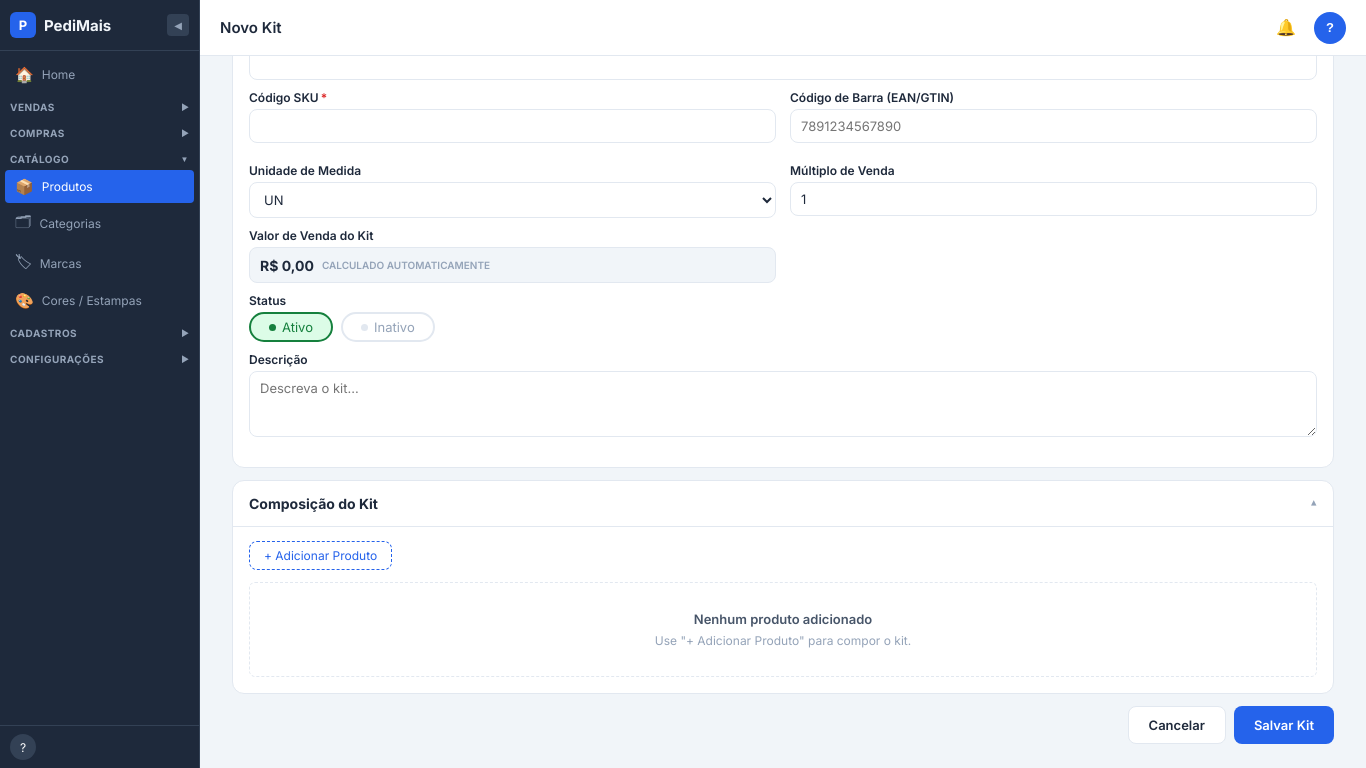
it: ProductKitFormView › removes an item and recalculates the total
(page scrolled)
Click the button with test id "adicionar-itens".
click(321, 556)  # box [249,541,392,570]
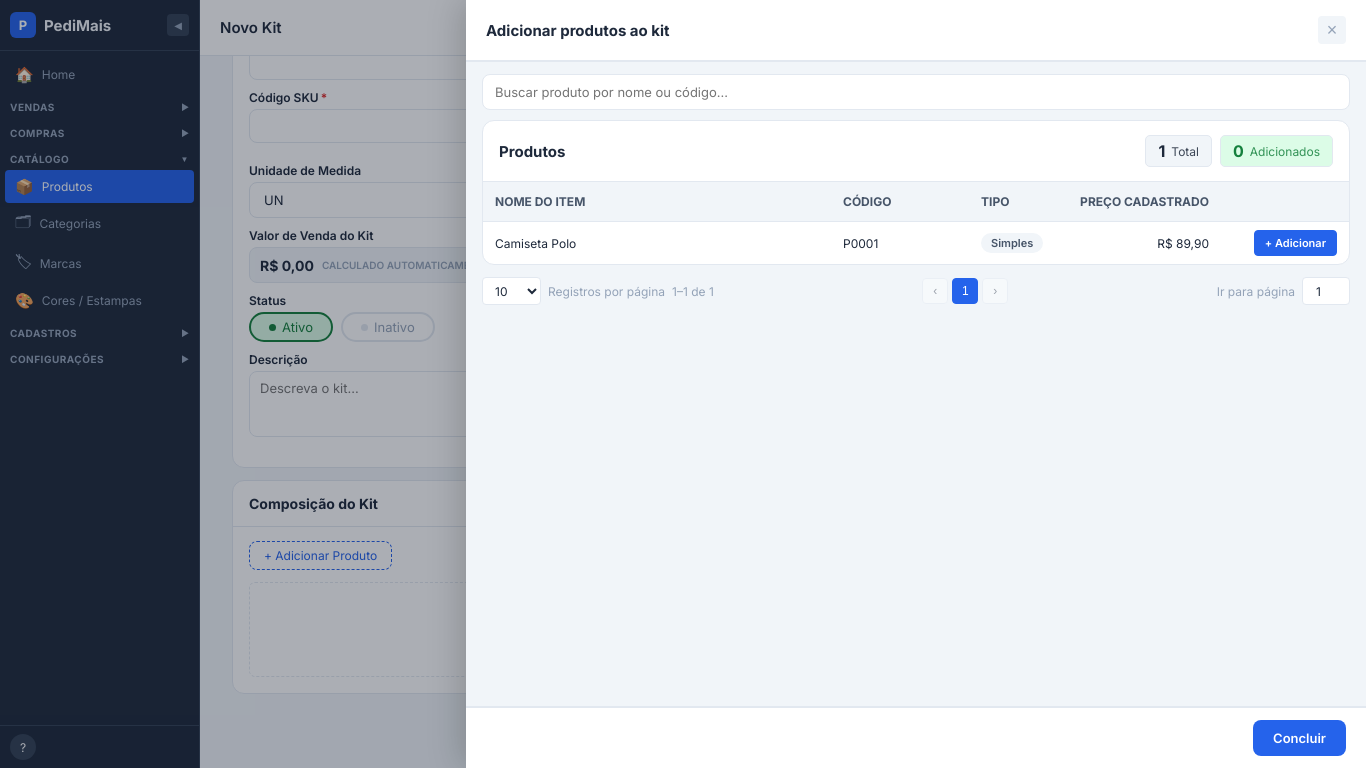
Click the button "+ Adicionar".
click(1295, 243)  # box [1254,230,1337,256]
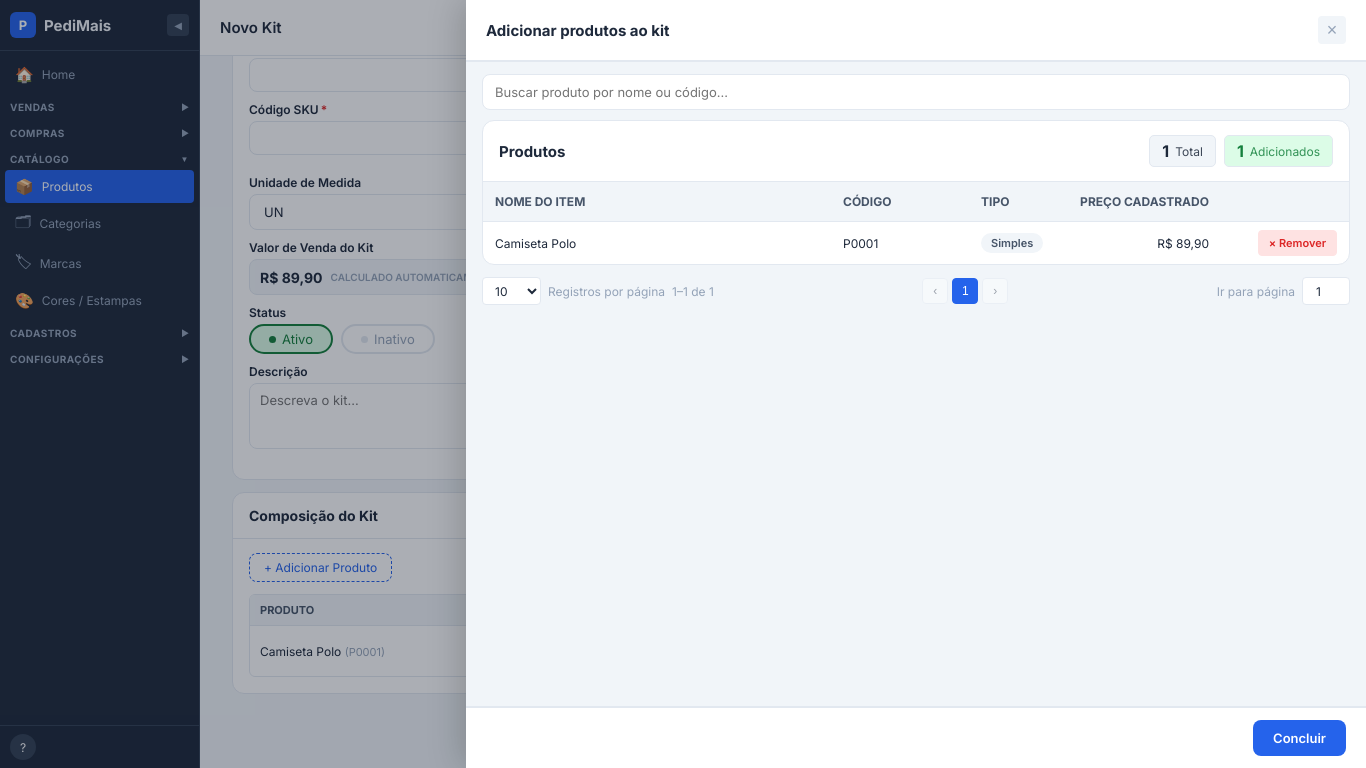
Click the button with test id "slide-over-close".
click(1332, 30)  # box [1318,16,1346,44]
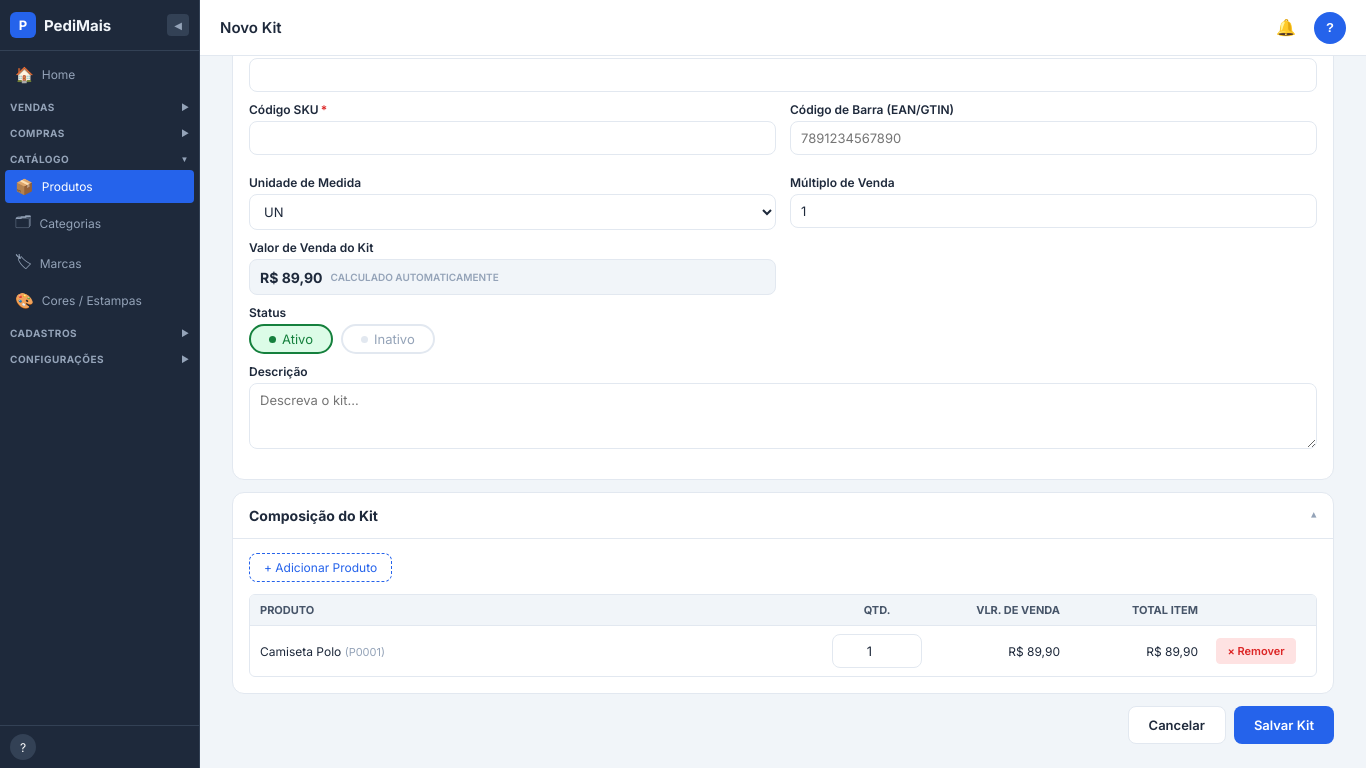
Check: the text "Camiseta Polo" is shown, box [260,644,345,658]
Click the button with test id "item-remover-0".
click(1256, 651)  # box [1216,638,1296,664]
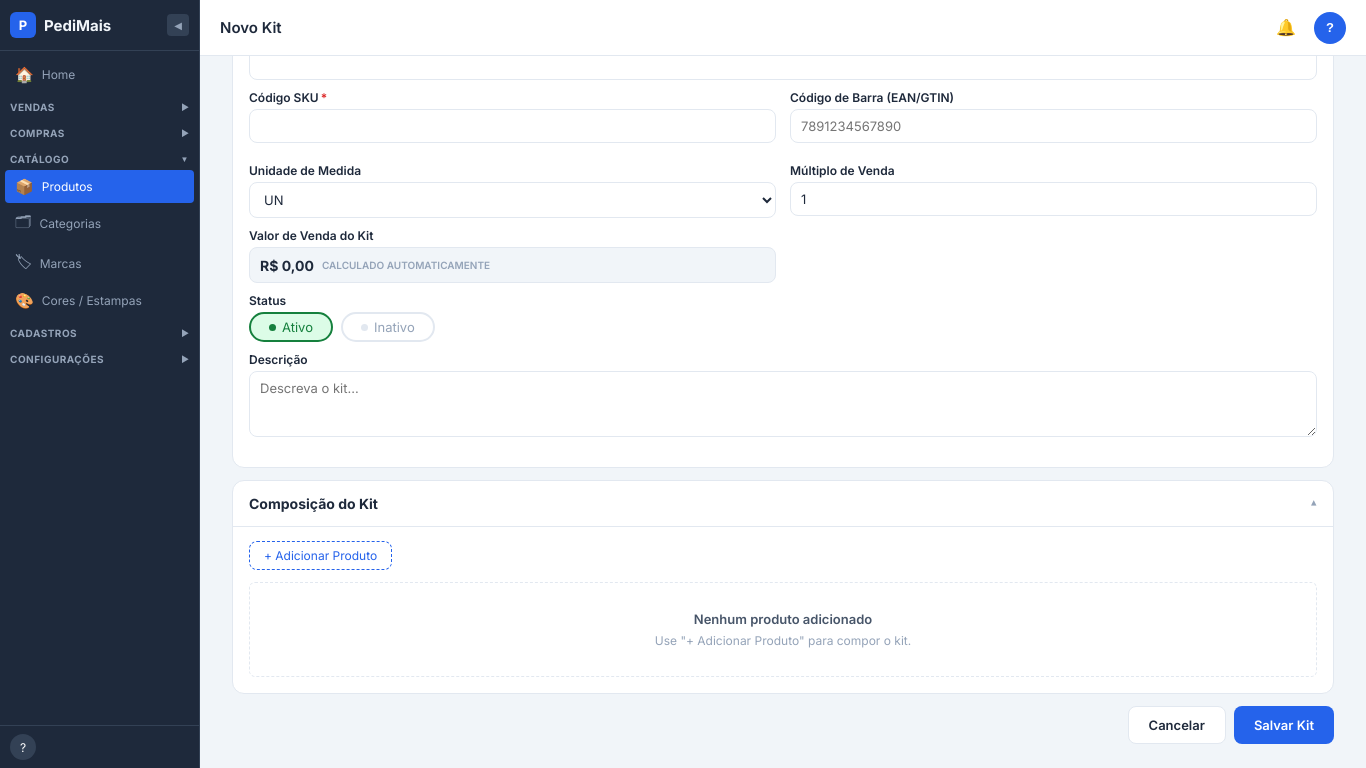
Check: the text "Camiseta Polo" is gone
Check: the element with test id "valor-kit" shows "0,00", box [260,256,314,274]
